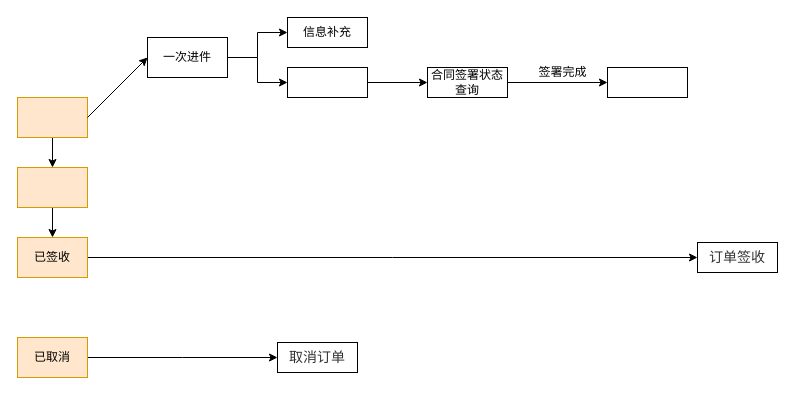
Some shapes in this 795 by 395 pixel diagram are drawn without their labels. The centre of each missing label's shape, as x and y in pixels:
"合同下载" belongs at point 647,82.
"合同模板上传" belongs at point 327,82.
"已发货" belongs at point 52,187.
"待支付" belongs at point 52,117.
